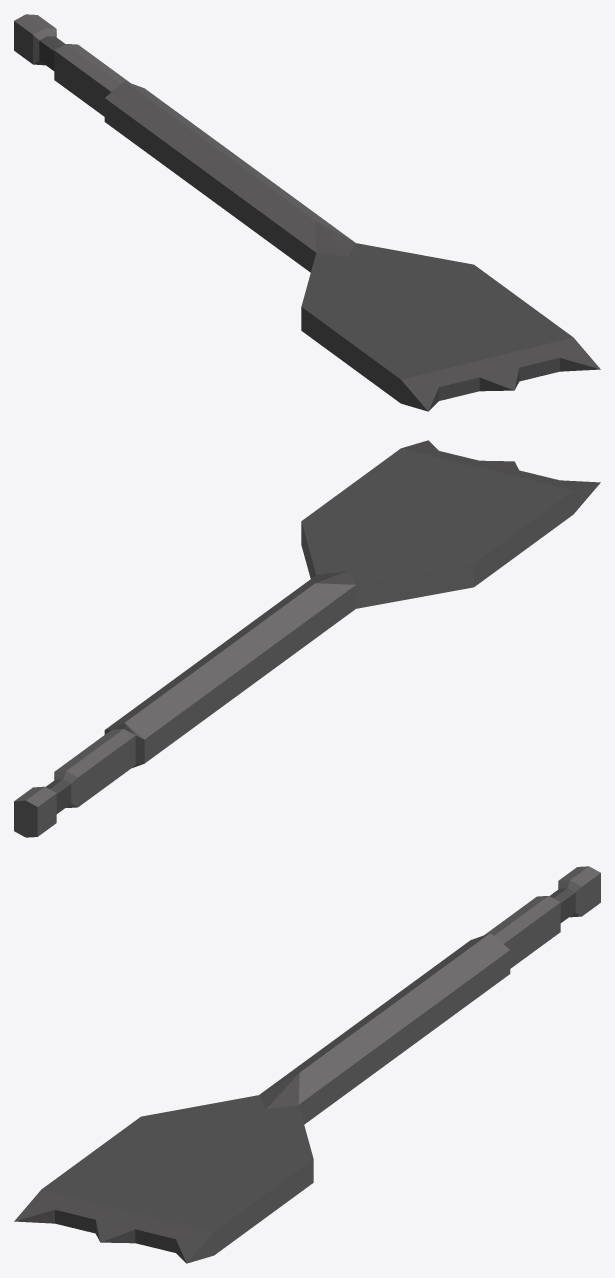
File: SM_Prop_Drill_Bit_01.fbx
3 renders of one model, top to bottom at view 1: azimuth 30°, elevation 25°; view 2: azimuth 150°, elevation 25°; view 3: azimuth 330°, elevation 25°, orthographic.
Parts seen in each view (by area): view 1: SM_Prop_Drill_Bit_01; view 2: SM_Prop_Drill_Bit_01; view 3: SM_Prop_Drill_Bit_01.
Boxes of the visible parts, <box> form: SM_Prop_Drill_Bit_01: <box>14,14,600,411</box>; SM_Prop_Drill_Bit_01: <box>14,440,600,837</box>; SM_Prop_Drill_Bit_01: <box>14,866,600,1263</box>.
Bounding box in the file's own units: 4.7 × 1.25 × 23.02.
